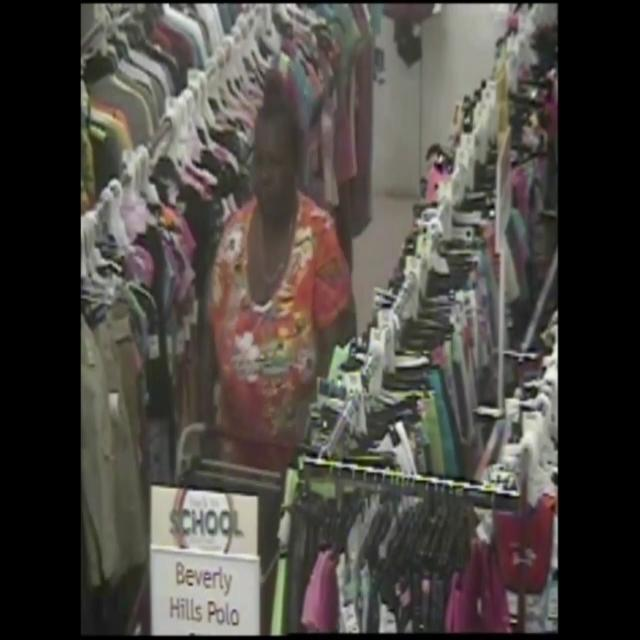normal: (190, 42, 350, 413)
